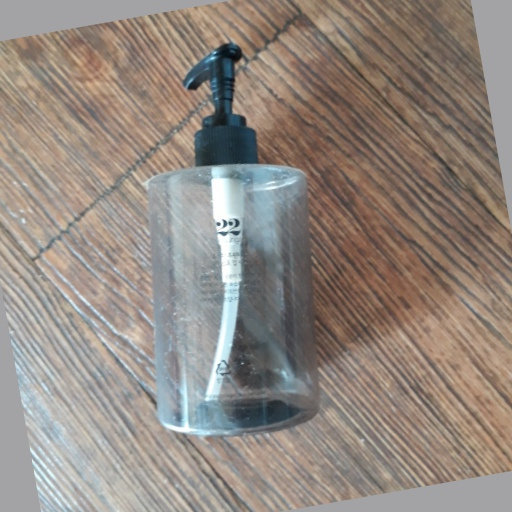Plastic_3: (144, 44, 322, 437)
